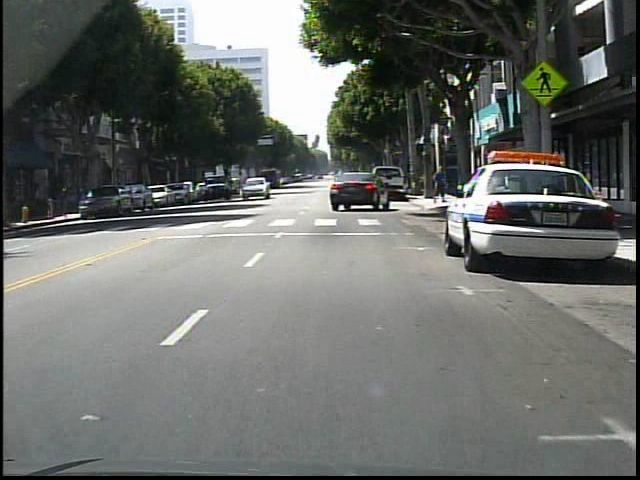person: (431, 162, 453, 207)
